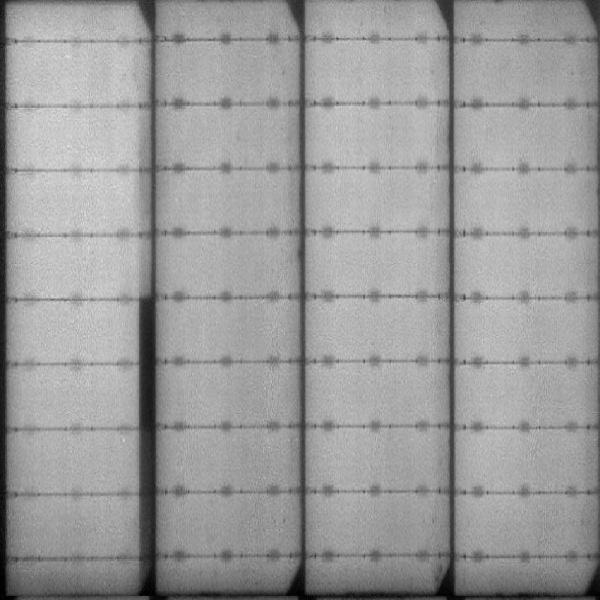black_border: (136, 292, 159, 585)
